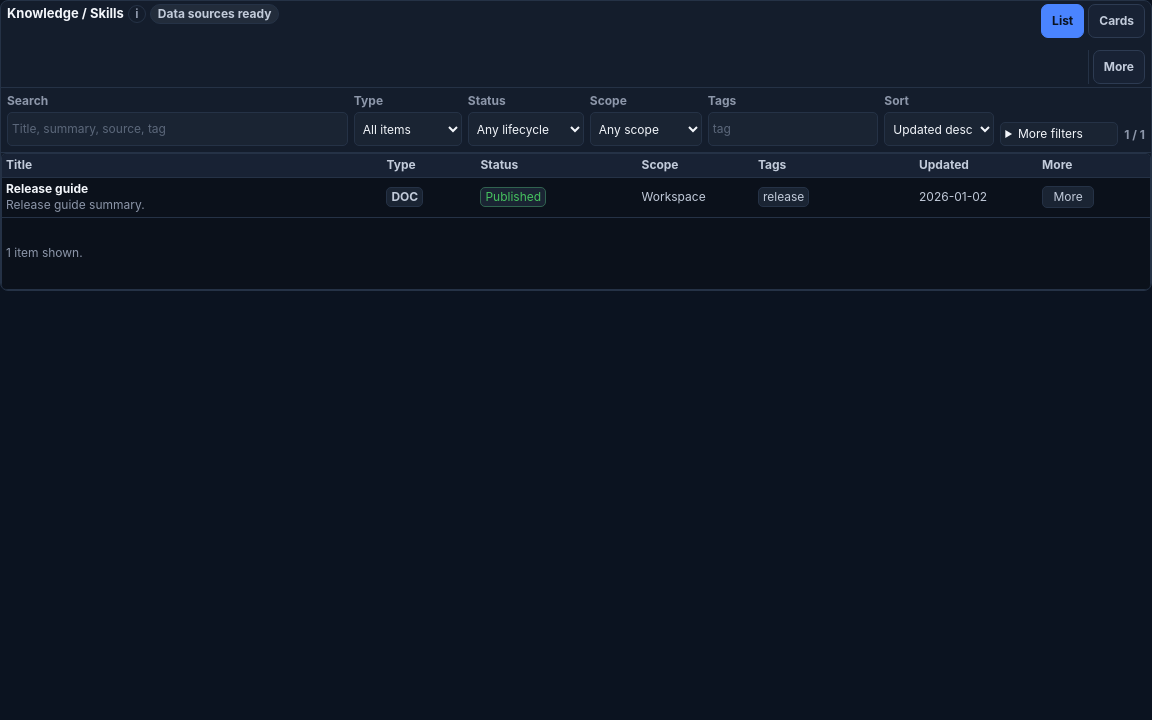
Test: KnowledgeV2 Use as Context popup › disables Attach until a valid item remains selected
This screenshot has width=1152, height=720.
Click the cell "Release guide Release guide summary." at (47,188), box [2, 178, 382, 217]
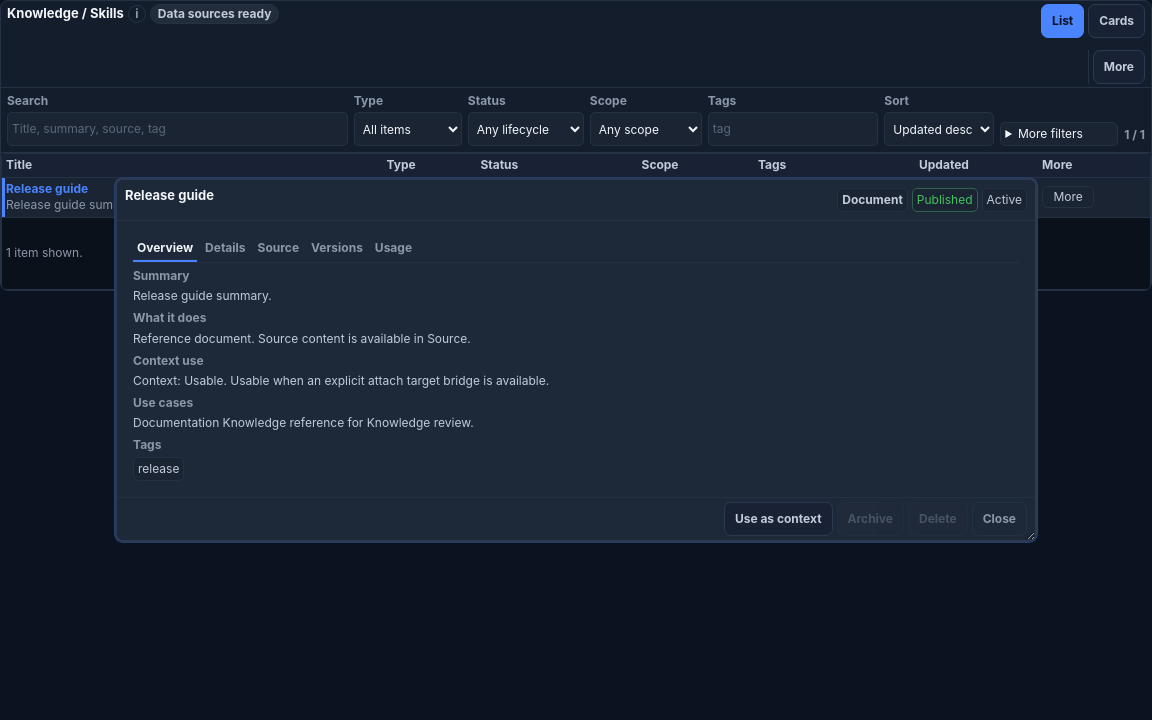
expect the button "Use as context" is shown: met
Click the button "Use as context" at (778,519), box [724, 502, 832, 536]
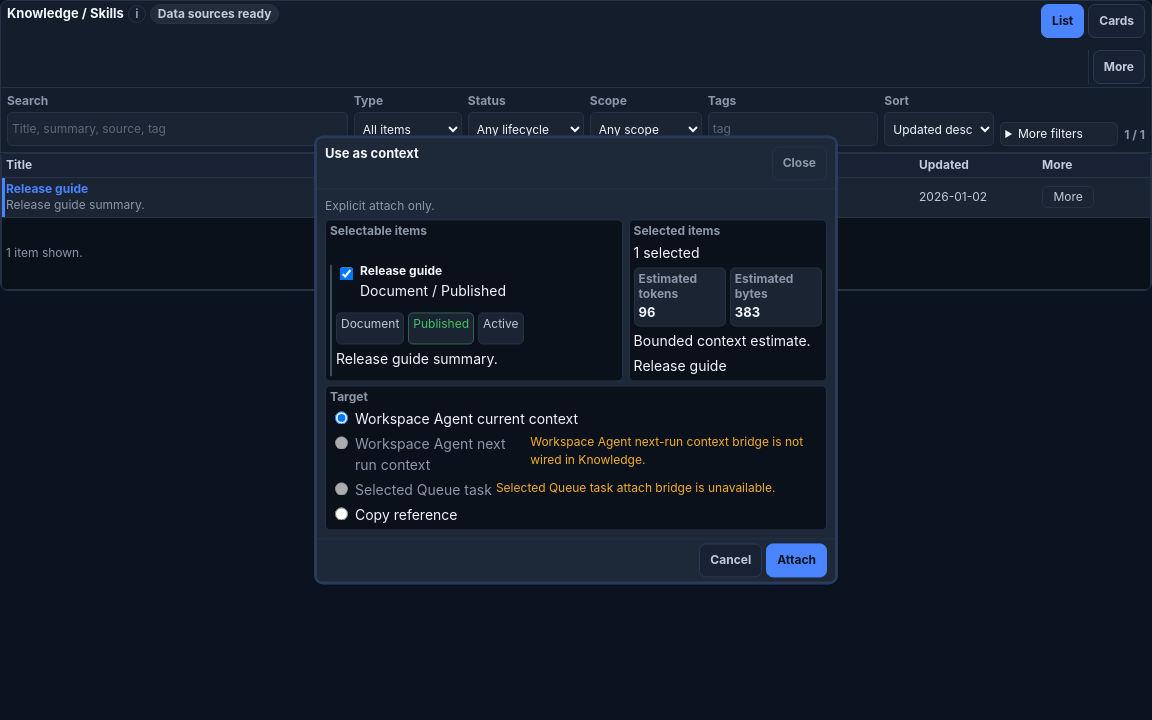
expect the button "Attach" is enabled: met, box [766, 544, 827, 578]
expect the checkbox labelled "Release guide Document / Published" is shown: met
Click the checkbox labelled "Release guide Document / Published" at (346,274), box [340, 267, 353, 280]
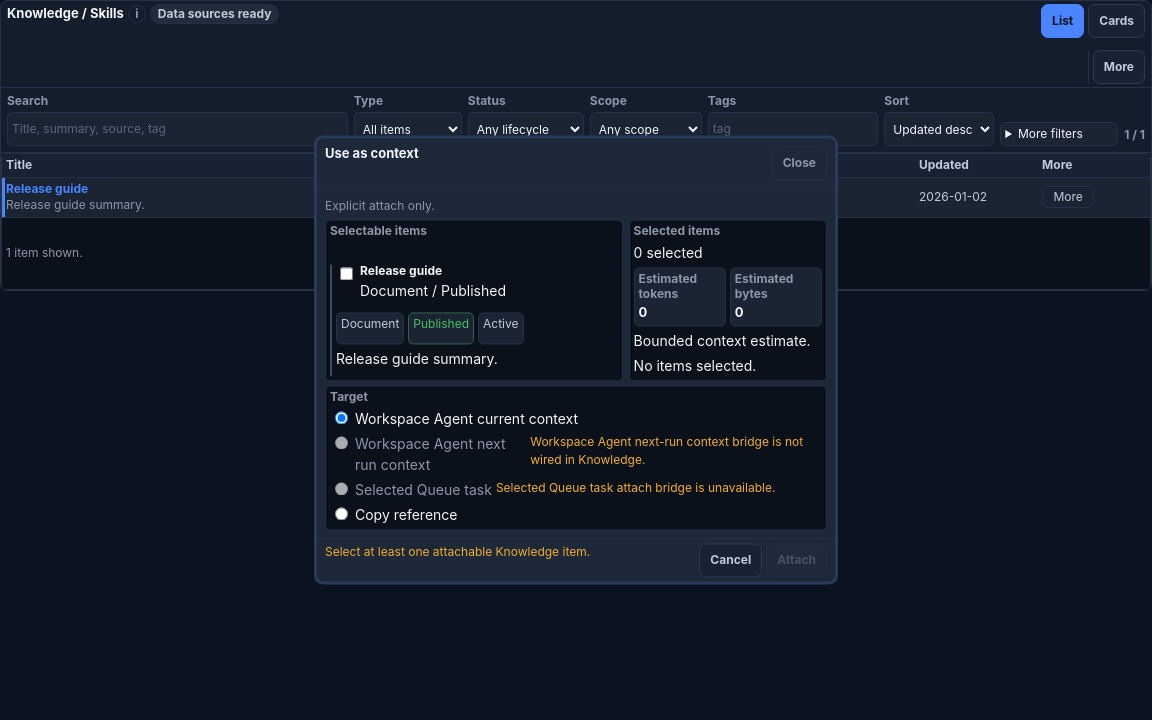
expect the button "Attach" is disabled: met, box [766, 544, 827, 578]
expect the dialog shows "Select at least one attachable Knowledge item.": met, box [325, 545, 590, 560]
